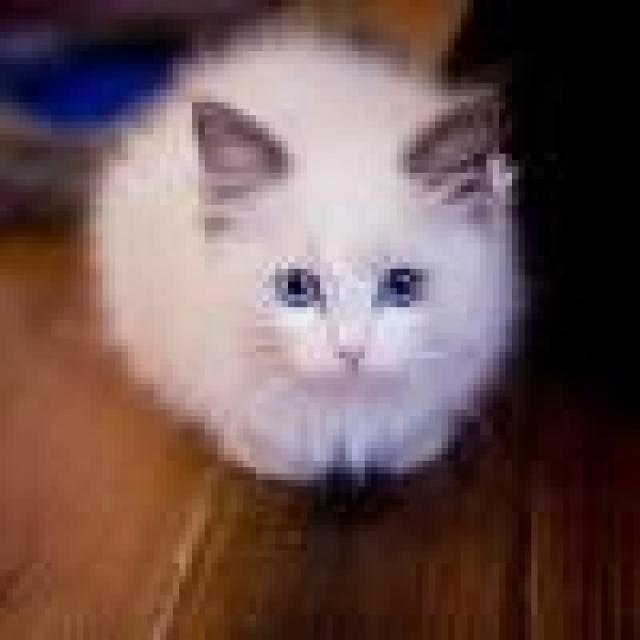Cat: (87, 20, 529, 485)
